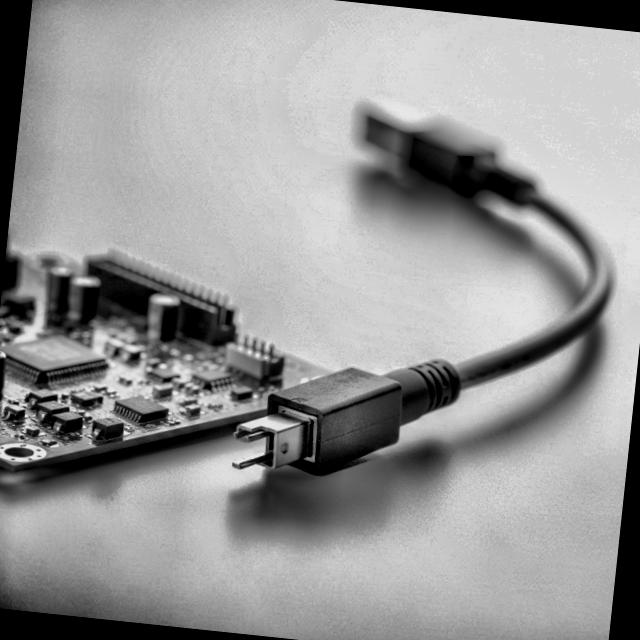Cable: (225, 68, 633, 558)
PCB: (0, 235, 328, 505)
